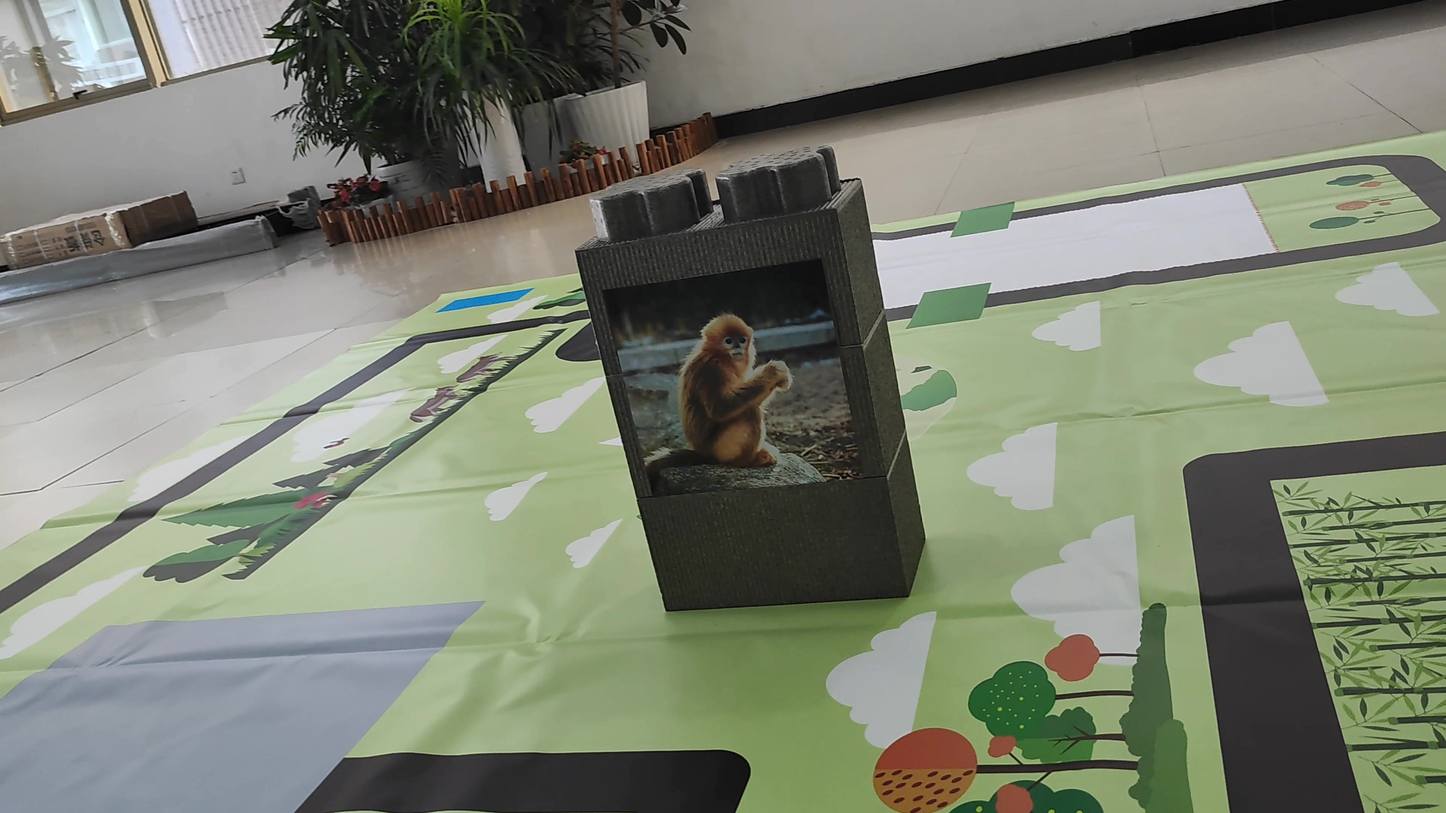monkey: (636, 295, 822, 492)
